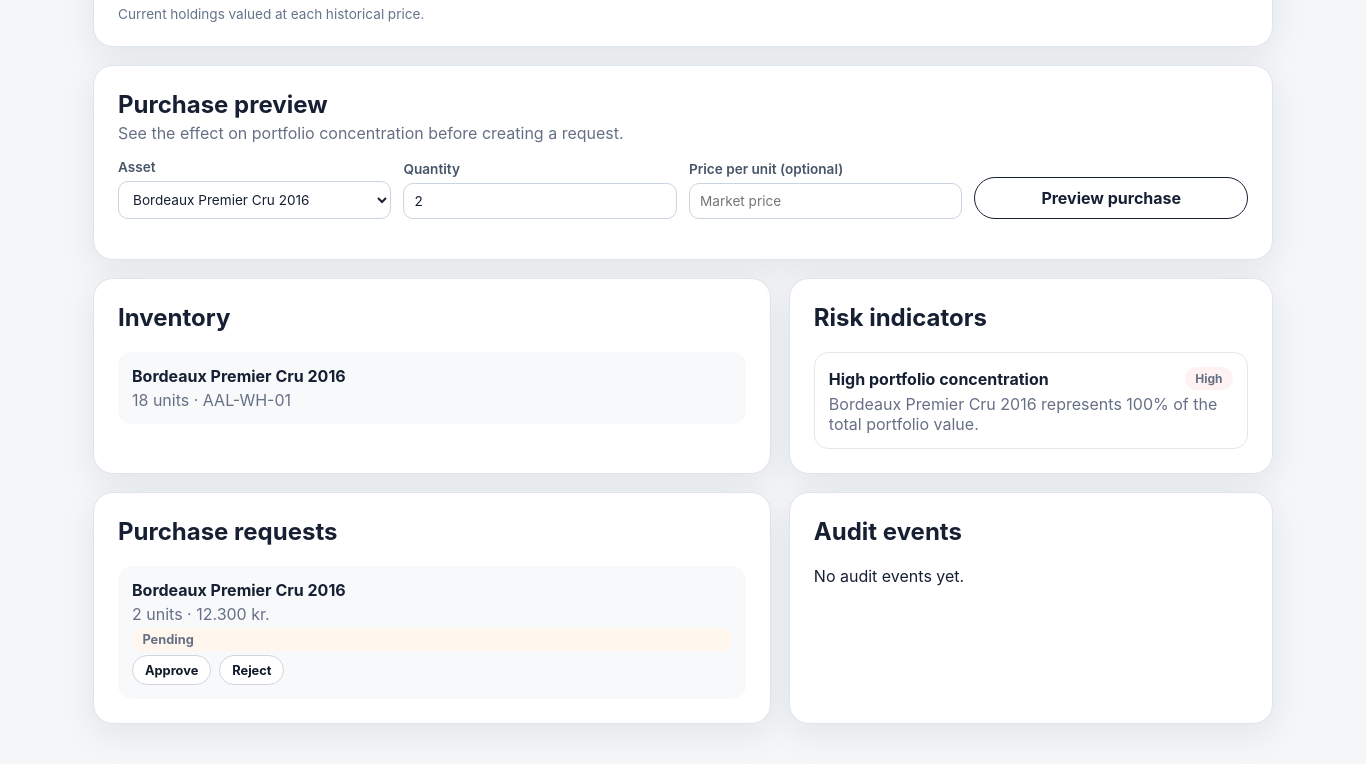
App › shows the backend's error message when a status change is rejected
(page scrolled)
Click the button "Reject". click: point(252, 670)
box: [219,655,284,685]
(page scrolled)
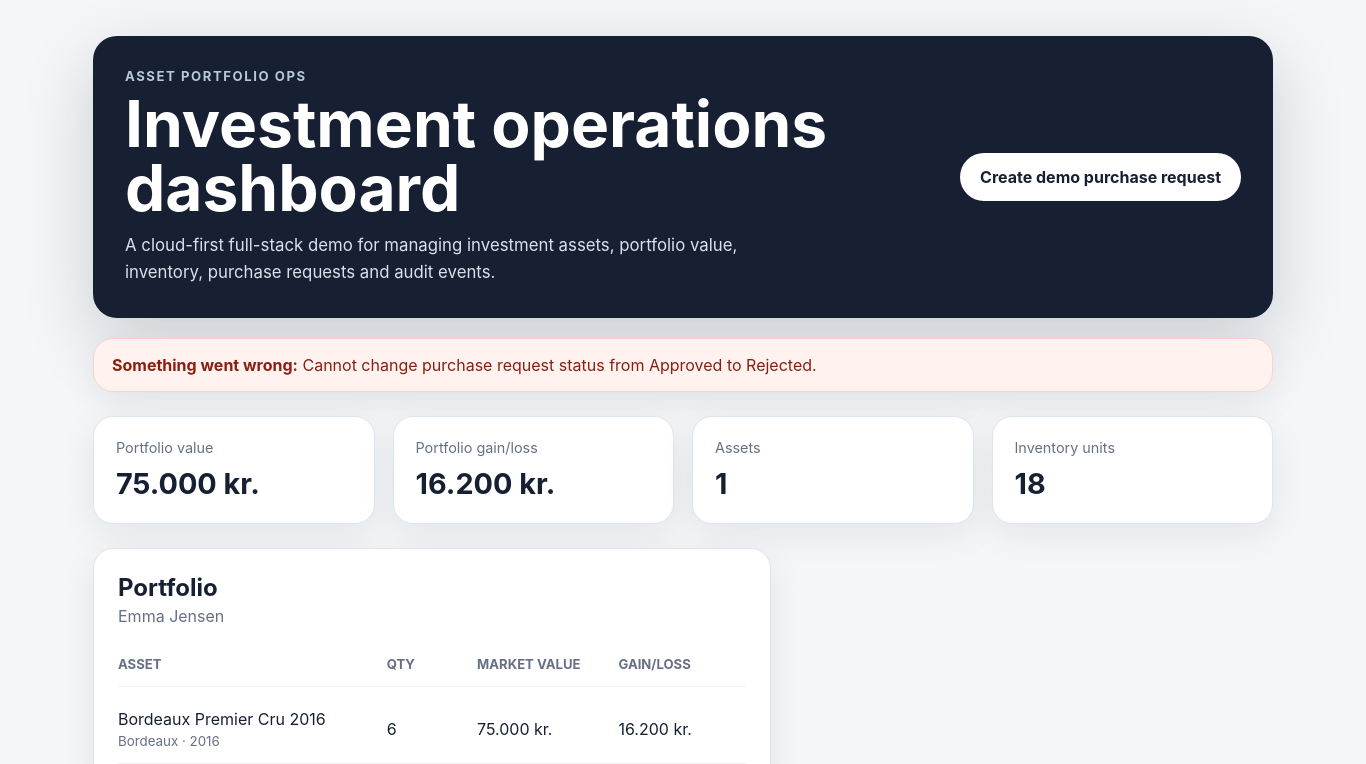
Now the message shows "Cannot change purchase request status from Approved to Rejected.", box [302,355,817,375]
